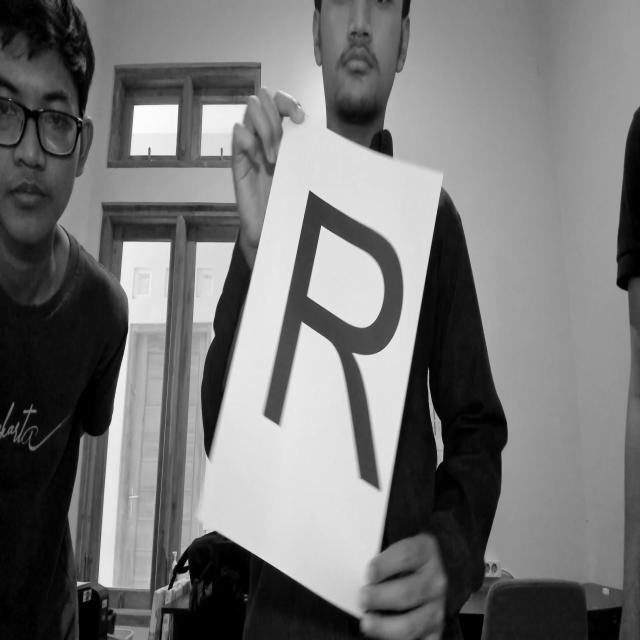r: (243, 169, 402, 505)
